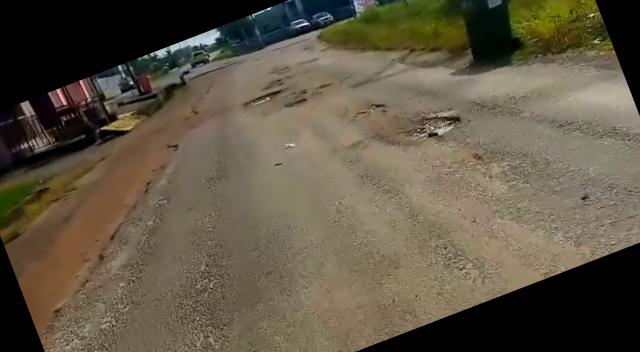pothole: (390, 100, 470, 154), (238, 86, 284, 109), (279, 94, 309, 113)
